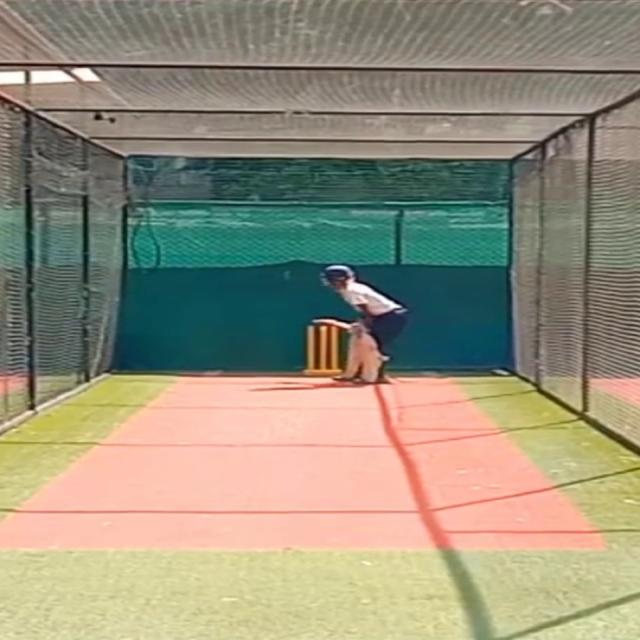stump: (301, 323, 339, 378)
